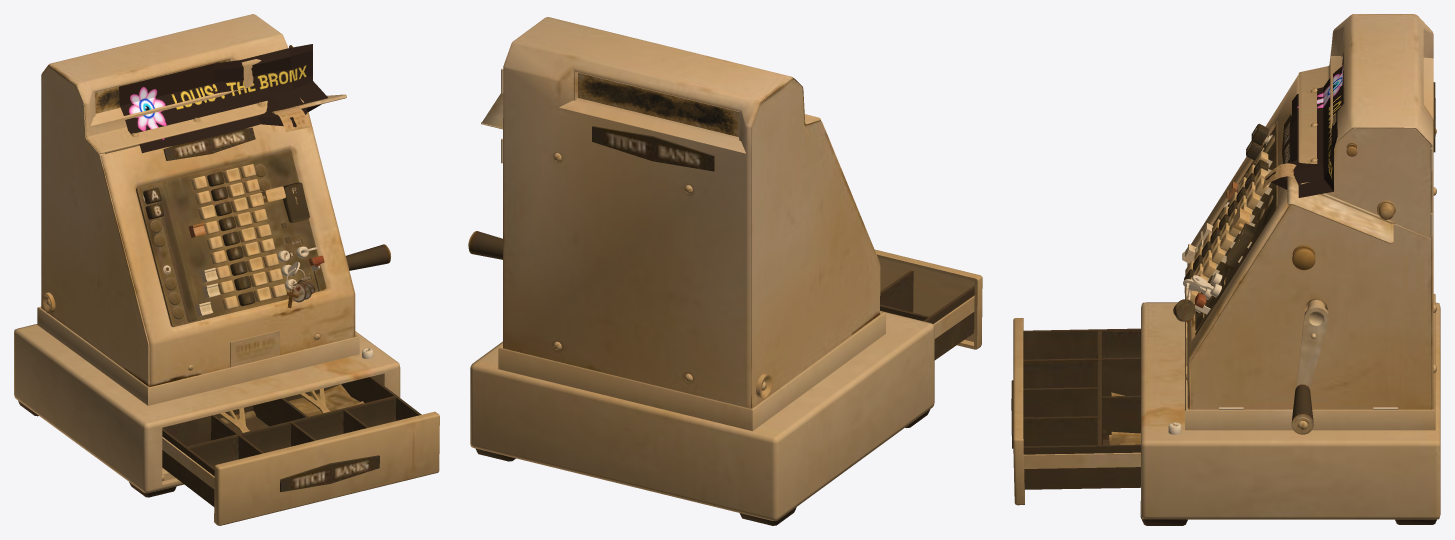
The model's file is nyb_godfather_register.glb.
The picture shows the model from 3 angles, left to right: view 1: azimuth 30°, elevation 25°; view 2: azimuth 150°, elevation 25°; view 3: azimuth 270°, elevation 25°; orthographic projection. The views are drawn at different scales.
Visible parts, largest first — view 1: CashRegister_01_body, stk_lbl_f226140c5e.png; view 2: CashRegister_01_body; view 3: CashRegister_01_body, stk_lbl_f226140c5e.png.
Boxes of the visible parts, x1,y1,x2,y2 form: CashRegister_01_body: (14, 14, 439, 525); stk_lbl_f226140c5e.png: (119, 44, 327, 153); CashRegister_01_body: (468, 17, 982, 525); CashRegister_01_body: (1011, 14, 1440, 525); stk_lbl_f226140c5e.png: (1265, 52, 1343, 197).
Bounding box in the file's own units: 0.6005 × 0.6213 × 0.6242.
Materials: 3 (3 with a texture image).
